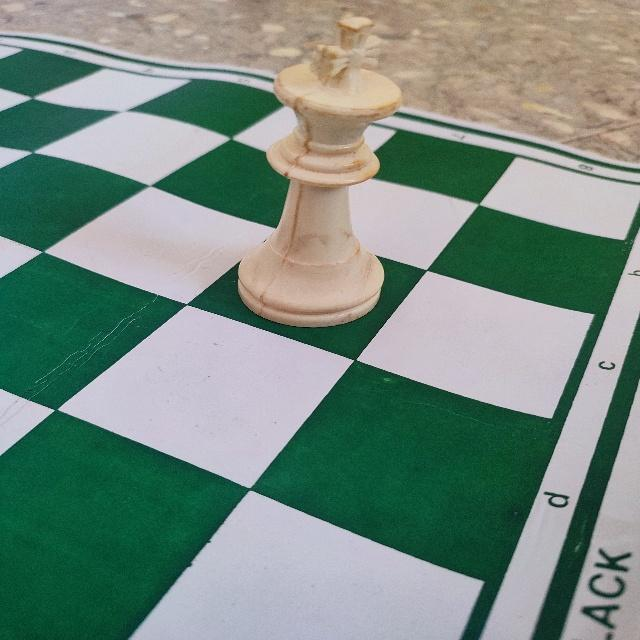King: (232, 14, 406, 331)
